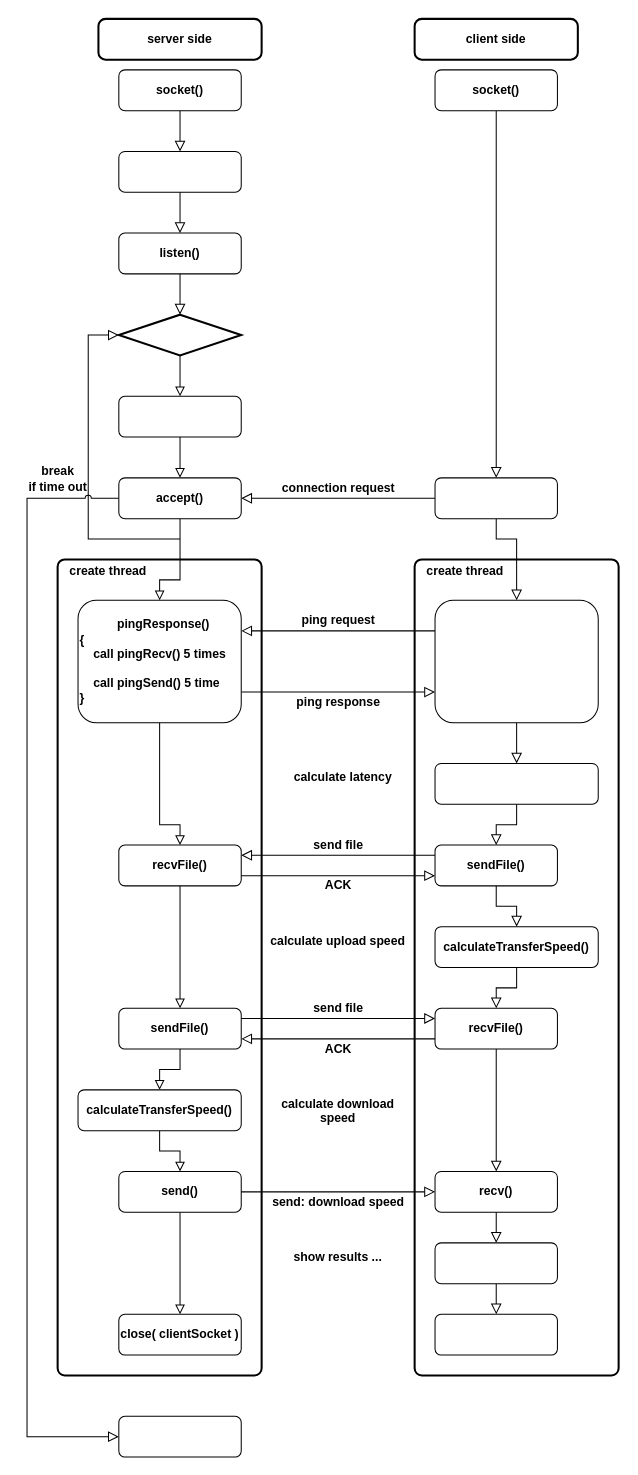
The diagram is 638 pixels wide and 1475 high, and some of its shapes have lost their labels. The shapes that lost their labels are listed below. From the top down, each one's box as (x1, y1, x2, y2) in pixels, then its label:
(118, 150, 241, 192): bind()
(117, 313, 242, 356): while (true)
(118, 395, 241, 437): set_timeout()
(434, 477, 557, 519): connection()
(434, 599, 598, 723): pingRequest() { call pingSend() 5 time call pingRecv() 5 times }
(434, 762, 598, 804): calculateAverageLatency()
(434, 1242, 557, 1284): printf( ... )
(434, 1313, 557, 1355): close( socket )
(118, 1415, 241, 1457): close( serverSocket )
